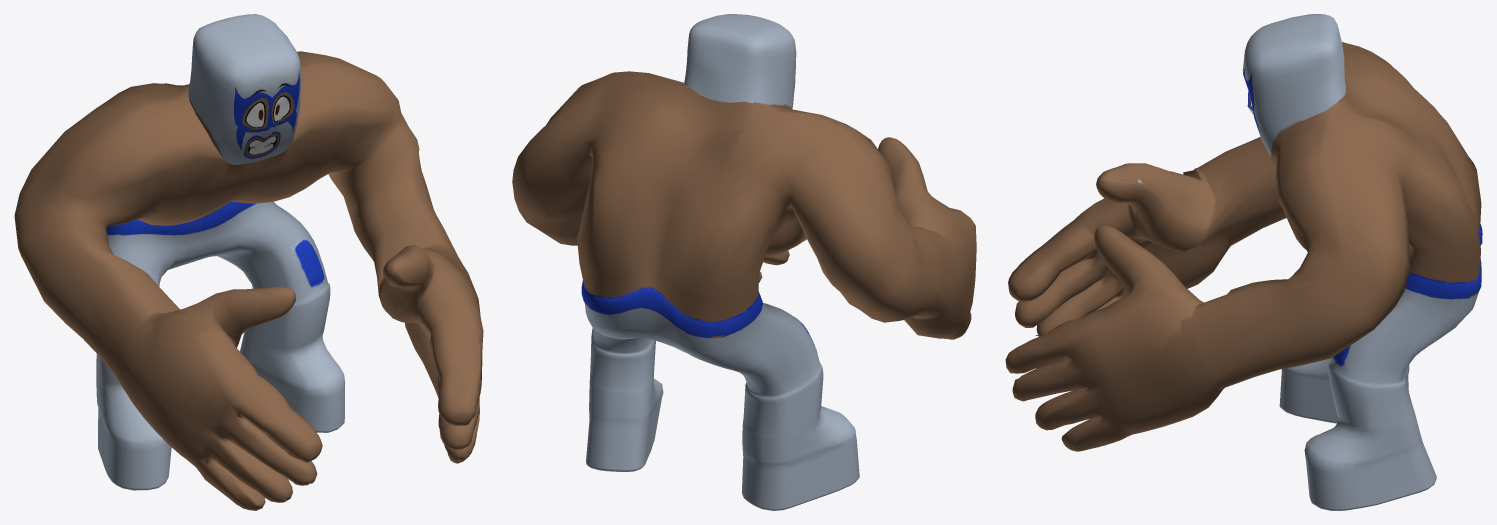
File: Cohette_IDLE.fbx
The picture shows the model from 3 angles, left to right: view 1: azimuth 30°, elevation 25°; view 2: azimuth 150°, elevation 25°; view 3: azimuth 270°, elevation 25°; orthographic projection.
Parts seen in each view (by area): view 1: El_Cohette_RIG:polySurface16, El_Cohette_RIG:polySurface17, El_Cohette_RIG:polySurface13; view 2: El_Cohette_RIG:polySurface16; view 3: El_Cohette_RIG:polySurface16, El_Cohette_RIG:polySurface17.
Part boxes in pixels (x1=…): El_Cohette_RIG:polySurface16: x1=14, y1=14, x2=483, y2=510; El_Cohette_RIG:polySurface17: x1=226, y1=65, x2=300, y2=150; El_Cohette_RIG:polySurface13: x1=222, y1=123, x2=296, y2=164; El_Cohette_RIG:polySurface16: x1=512, y1=14, x2=976, y2=510; El_Cohette_RIG:polySurface16: x1=1005, y1=14, x2=1482, y2=510; El_Cohette_RIG:polySurface17: x1=1242, y1=47, x2=1263, y2=138.
Size of the model in its own units: 5.41 by 5.8 by 5.8.
